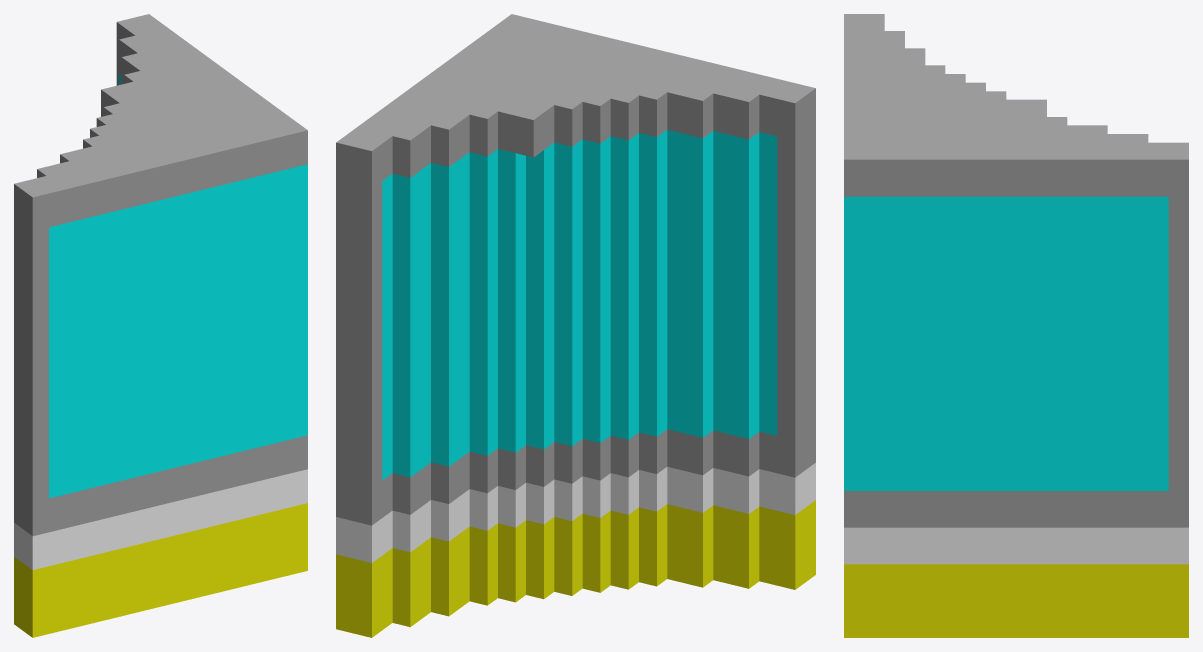
Rendered from HockeyBoard side.obj.
3 views of the same model, side by side, from view 1: azimuth 30°, elevation 25°; view 2: azimuth 150°, elevation 25°; view 3: azimuth 270°, elevation 25° (orthographic). The views are drawn at different scales.
Bounding box in the file's own units: 17 × 26 × 17.
1 material, 1 textured.
